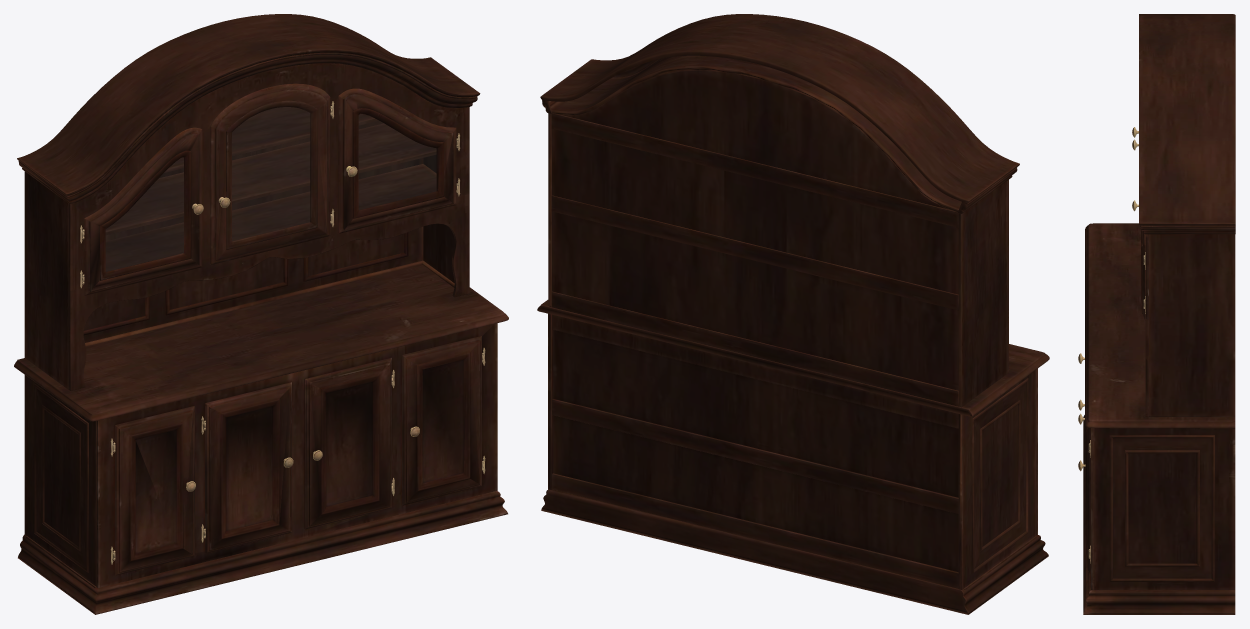
Rendered from vintage_cabinet_01.glb.
The picture shows the model from 3 angles, left to right: view 1: azimuth 30°, elevation 25°; view 2: azimuth 150°, elevation 25°; view 3: azimuth 270°, elevation 25°; orthographic projection. The views are drawn at different scales.
Parts seen in each view (by area): view 1: vintage_cabinet_01_body, vintage_cabinet_01_door_01; view 2: vintage_cabinet_01_body; view 3: vintage_cabinet_01_body.
Part boxes in pixels (left/top/right/bottom): vintage_cabinet_01_body: left=14, top=14, right=508, bottom=614; vintage_cabinet_01_door_01: left=106, top=107, right=436, bottom=271; vintage_cabinet_01_body: left=537, top=14, right=1049, bottom=614; vintage_cabinet_01_body: left=1078, top=14, right=1235, bottom=614.
Bounding box in the file's own units: 2.02 × 2.24 × 0.6699.
Materials: 3 (2 with a texture image).
